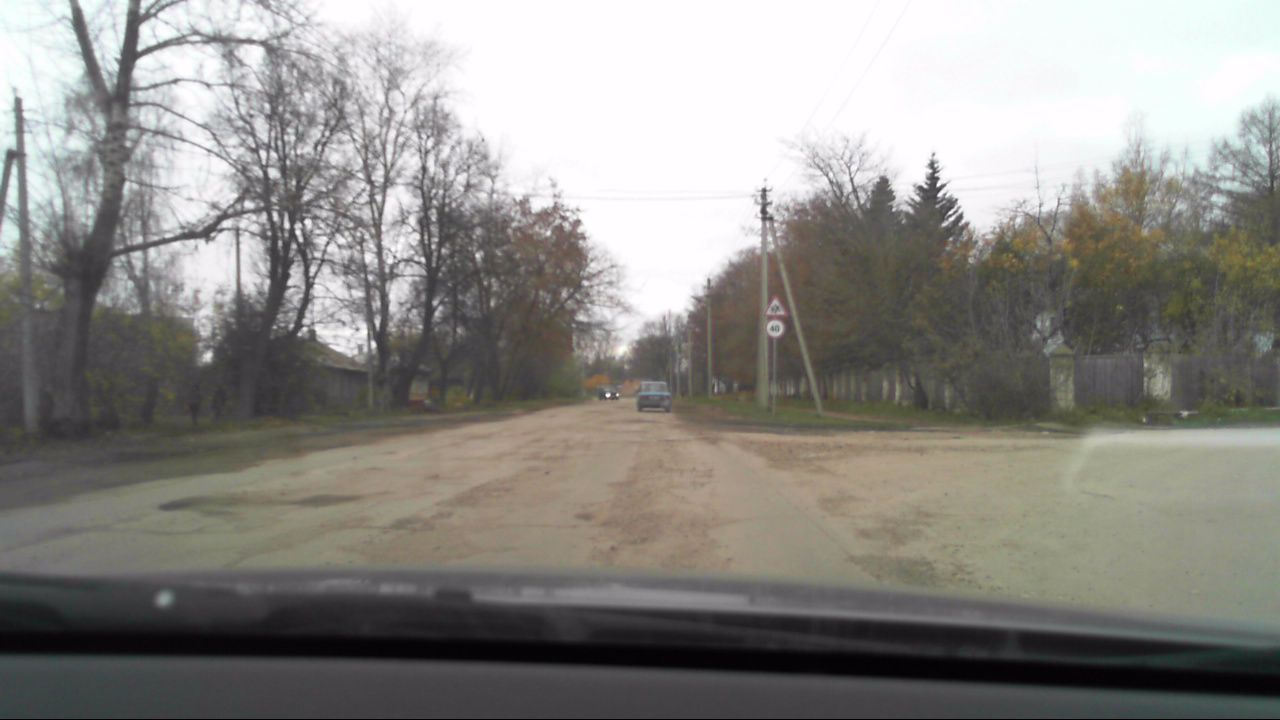speed_warning_40: (765, 319, 786, 337)
